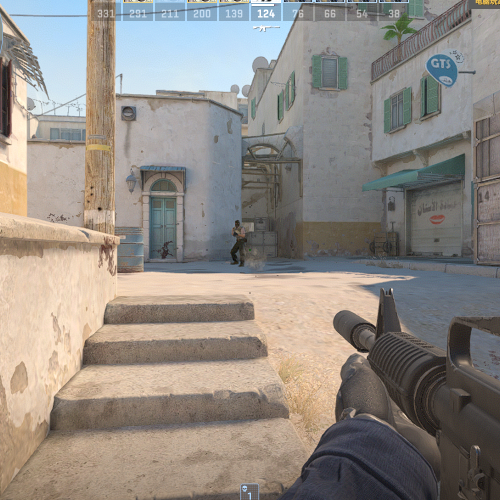t_body: (230, 220, 247, 268)
t_head: (234, 220, 240, 228)
